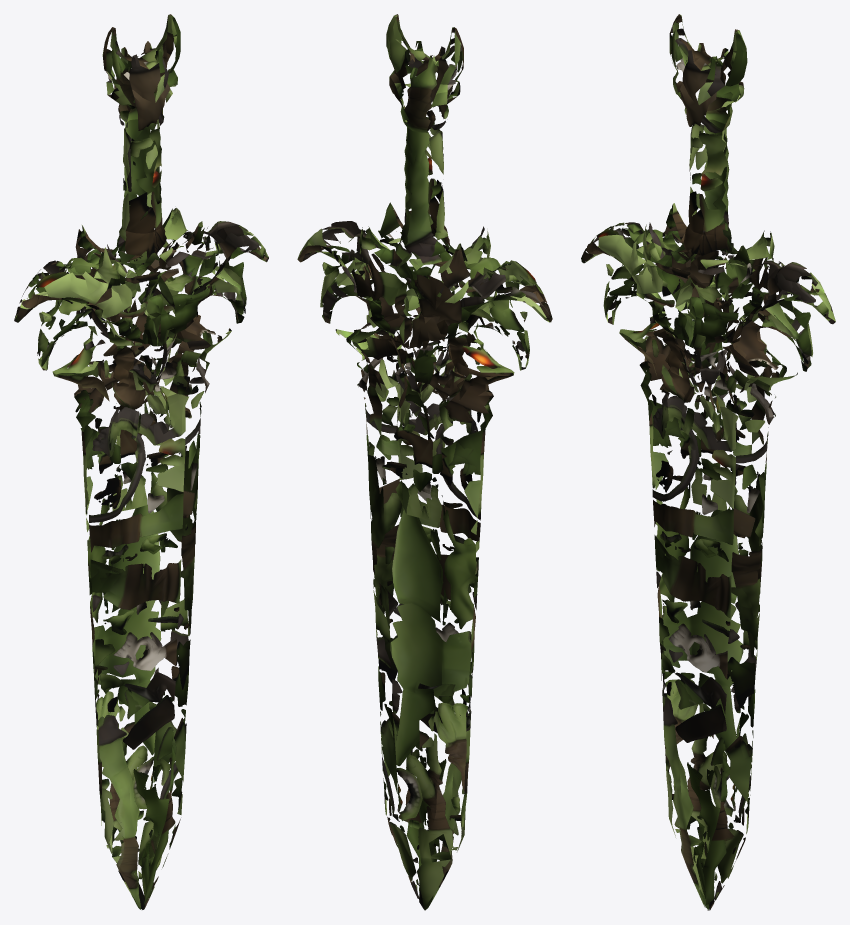
Rendered from espada god.fbx.
The picture shows the model from 3 angles, left to right: view 1: azimuth 30°, elevation 25°; view 2: azimuth 150°, elevation 25°; view 3: azimuth 330°, elevation 25°; orthographic projection.
Visible parts, largest first — view 1: Mesh_0; view 2: Mesh_0; view 3: Mesh_0.
Boxes of the visible parts, x1=… form: Mesh_0: x1=14, y1=14, x2=268, y2=909; Mesh_0: x1=297, y1=14, x2=552, y2=910; Mesh_0: x1=581, y1=14, x2=835, y2=910.
Bounding box in the file's own units: 29.89 × 100 × 7.96.
